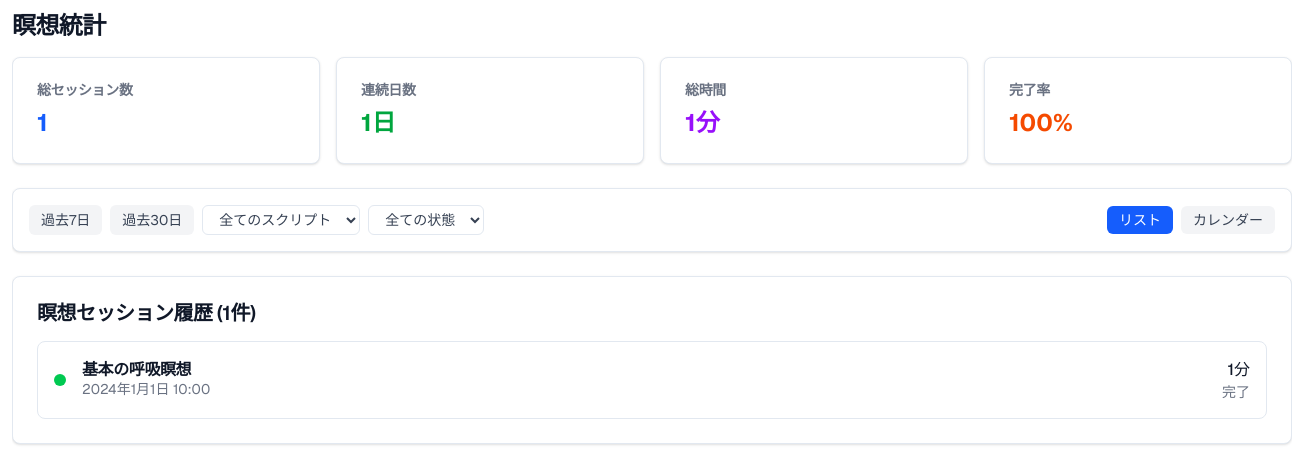
MeditationHistory Integration › should clear all filters when clear button is clicked
Set multiple filters
Click the button "過去7日". click: click(66, 220)
box: top-left (29, 205), bottom-right (102, 235)
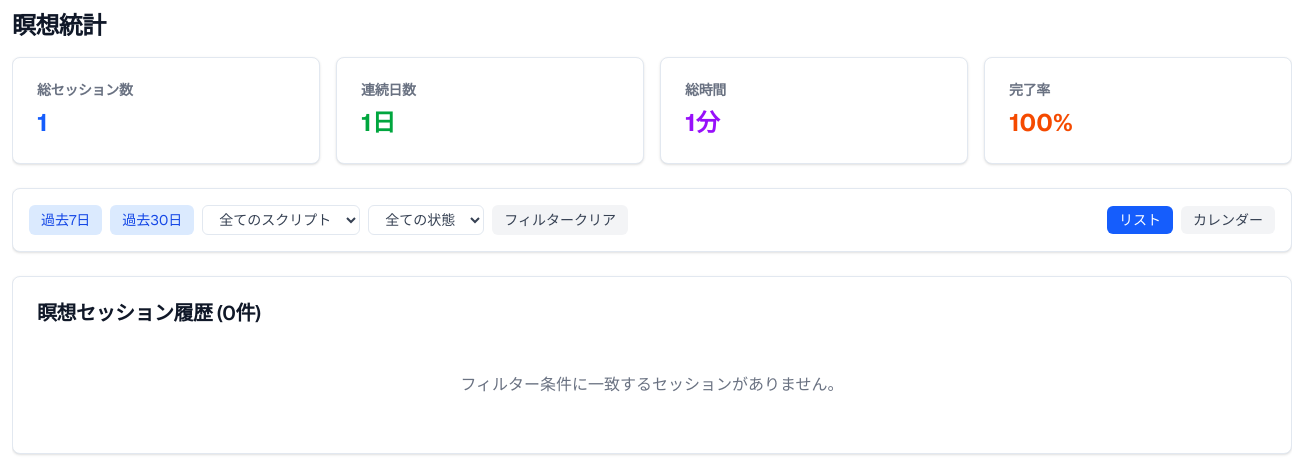
Select "完了済み" in the dropdown showing "全ての状態". click: (426, 220)
box: top-left (368, 205), bottom-right (484, 235)
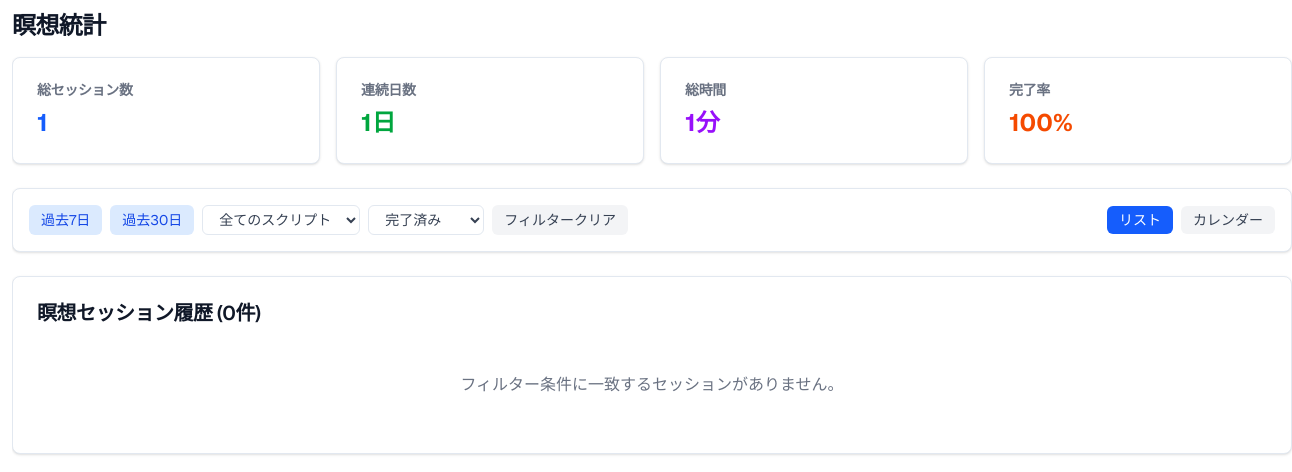
Expected: the button "フィルタークリア" is shown
Click clear filters
Click the button "フィルタークリア". click: click(560, 220)
box: top-left (492, 205), bottom-right (628, 235)
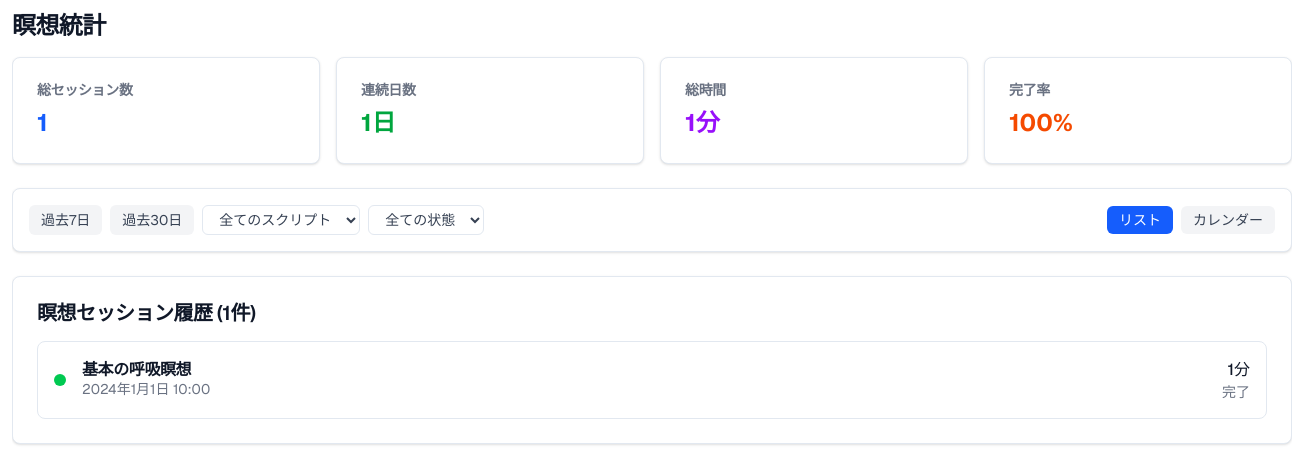
Expected: the button "フィルタークリア" is gone
